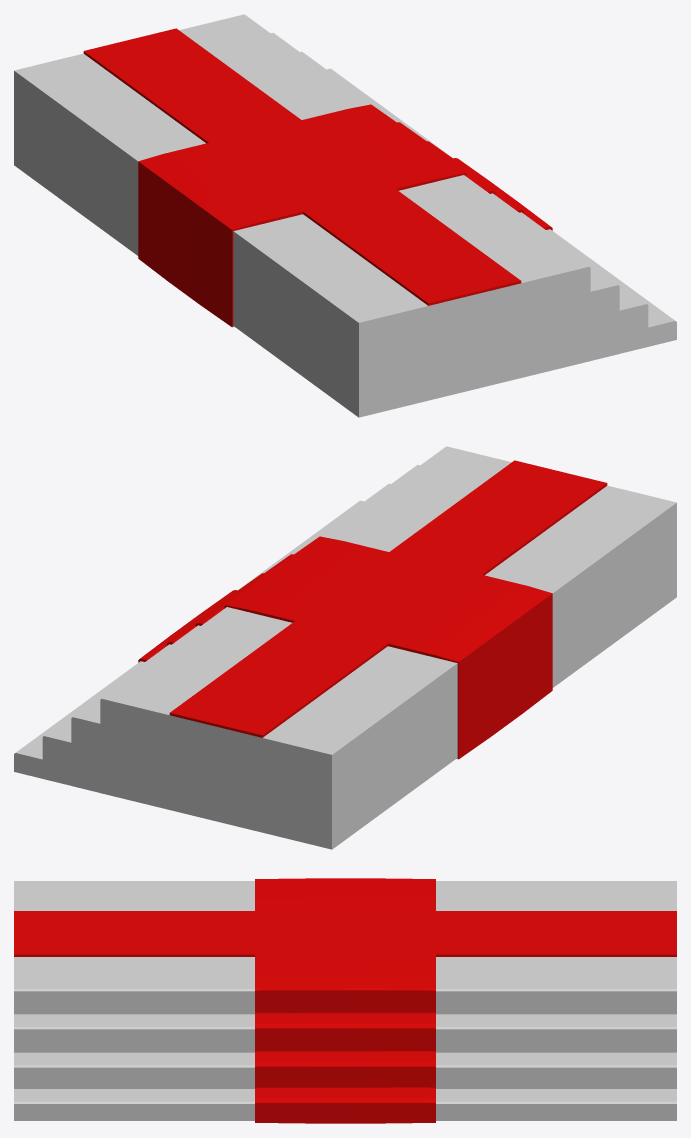
The model's file is podium.fbx.
The picture shows the model from 3 angles, top to bottom: view 1: azimuth 30°, elevation 25°; view 2: azimuth 150°, elevation 25°; view 3: azimuth 270°, elevation 25°; orthographic projection. The views are drawn at different scales.
Visible parts, largest first — view 1: polySurface4; view 2: polySurface4; view 3: polySurface4.
Part boxes in pixels (<box>): polySurface4: <box>14,14,676,417</box>; polySurface4: <box>14,446,676,849</box>; polySurface4: <box>14,878,676,1123</box>.
Size of the model in its own units: 291 by 86.2 by 540.
